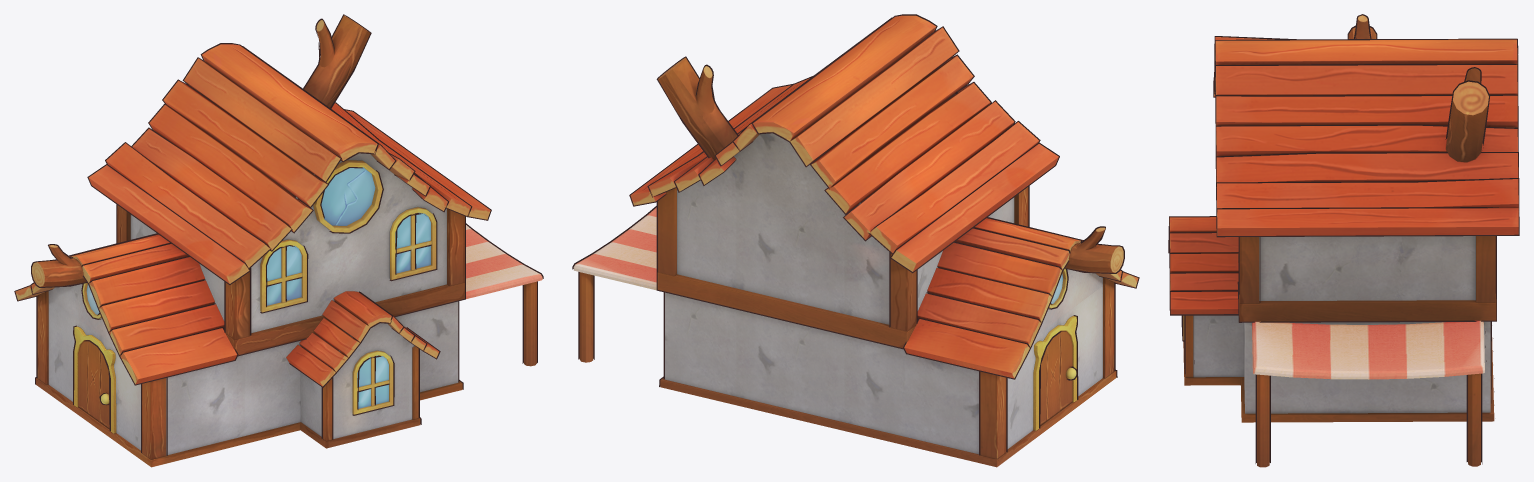
File: chinese-house.glb
3 renders of one model, left to right at view 1: azimuth 30°, elevation 25°; view 2: azimuth 150°, elevation 25°; view 3: azimuth 270°, elevation 25°, orthographic. The views are drawn at different scales.
Visible parts, largest first — view 1: Cube.018, Cube.001; view 2: Cube.018, Cube.001; view 3: Cube.018, Cube.001.
Part boxes in pixels (bbox=[...]): Cube.018: bbox=[15, 15, 542, 467]; Cube.001: bbox=[14, 14, 543, 455]; Cube.018: bbox=[573, 15, 1138, 467]; Cube.001: bbox=[572, 14, 1139, 455]; Cube.018: bbox=[1169, 15, 1518, 467]; Cube.001: bbox=[1168, 14, 1519, 464].
Size of the model in its own units: 28.88 by 18.26 by 17.26.
Materials: 2 (1 with a texture image).
